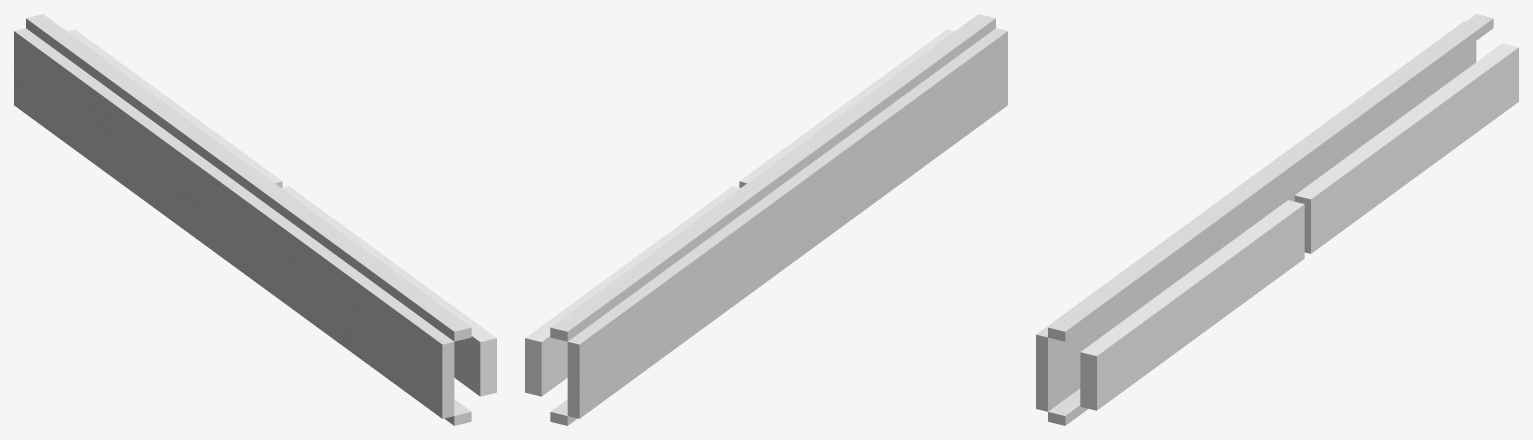
File: undercabinetledstrip.obj
3 renders of one model, left to right at view 1: azimuth 30°, elevation 25°; view 2: azimuth 150°, elevation 25°; view 3: azimuth 330°, elevation 25°, orthographic.
Parts seen in each view (by area): view 1: Base, Metal, Light1, Light0; view 2: Base, Metal, Light0, Light1; view 3: Light1, Light0, Base, Metal.
Boxes of the visible parts, x1=… form: Base: x1=14, y1=28, x2=454, y2=418; Metal: x1=26, y1=14, x2=471, y2=425; Light1: x1=281, y1=186, x2=496, y2=396; Light0: x1=67, y1=29, x2=282, y2=187; Base: x1=567, y1=28, x2=1007, y2=418; Metal: x1=550, y1=14, x2=995, y2=425; Light0: x1=525, y1=186, x2=740, y2=396; Light1: x1=739, y1=29, x2=954, y2=187; Light1: x1=1080, y1=200, x2=1304, y2=410; Light0: x1=1294, y1=43, x2=1518, y2=253; Base: x1=1036, y1=21, x2=1476, y2=411; Metal: x1=1048, y1=14, x2=1493, y2=425.
Bounding box in the file's own units: 0.073 × 0.114 × 0.94.
